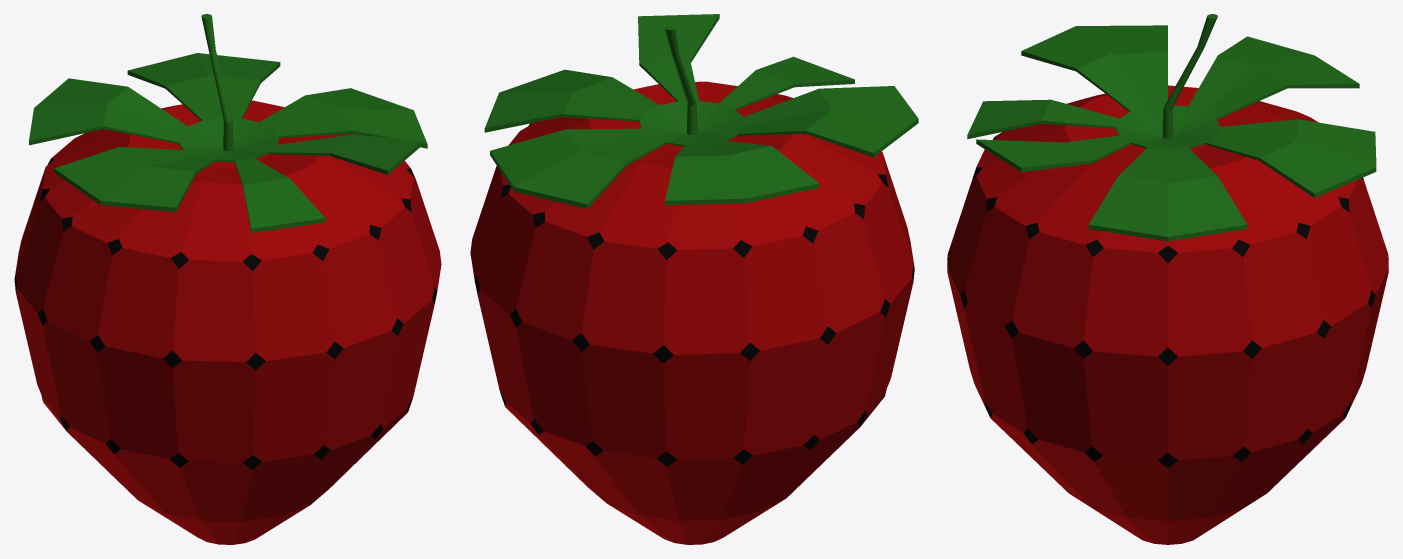
Rendered from Fresa.fbx.
The picture shows the model from 3 angles, left to right: view 1: azimuth 30°, elevation 25°; view 2: azimuth 150°, elevation 25°; view 3: azimuth 270°, elevation 25°; orthographic projection. The views are drawn at different scales.
Visible parts, largest first — view 1: Fresa; view 2: Fresa; view 3: Fresa.
Boxes of the visible parts, x1,y1,x2,y2 form: Fresa: (14,14,441,544); Fresa: (470,14,918,544); Fresa: (947,14,1388,544).
Bounding box in the file's own units: 184 × 236 × 184.
